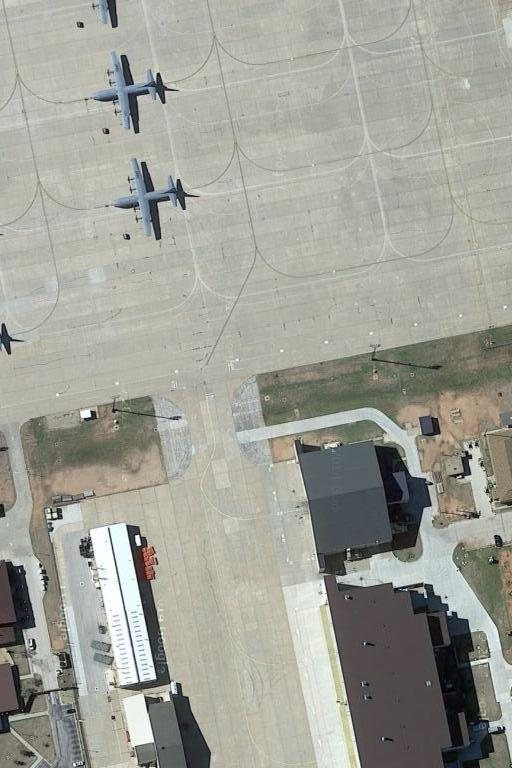C-130: (88, 47, 175, 136), (112, 154, 197, 244)
